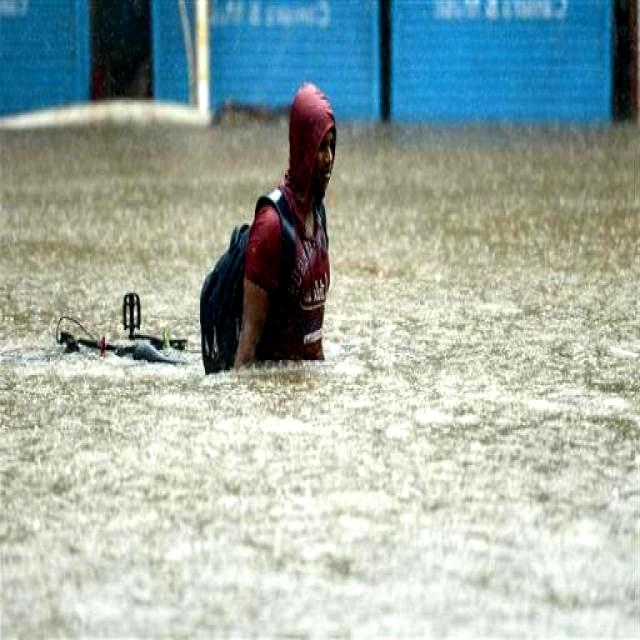civilian: (183, 68, 364, 414)
